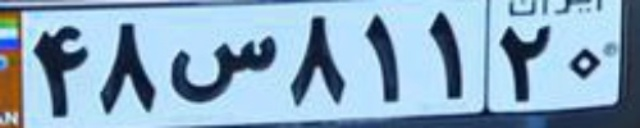0: (565, 48, 602, 81)
1: (424, 11, 463, 99), (363, 12, 399, 102)
2: (497, 23, 554, 102)
4: (31, 25, 87, 118)
8: (96, 23, 154, 113), (289, 15, 344, 105)
sin: (167, 34, 279, 103)
